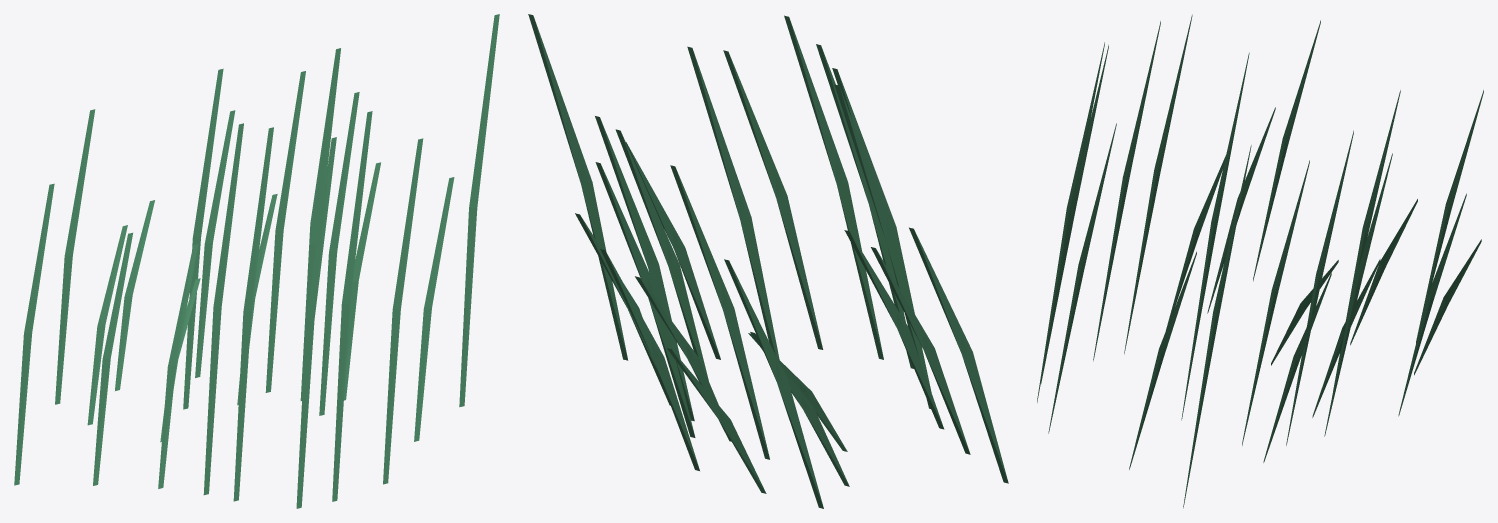
File: seagrass.glb
3 renders of one model, left to right at view 1: azimuth 30°, elevation 25°; view 2: azimuth 150°, elevation 25°; view 3: azimuth 270°, elevation 25°, orthographic. The views are drawn at different scales.
Visible parts, largest first — view 1: seagrass; view 2: seagrass; view 3: seagrass.
Boxes of the visible parts, x1,y1,x2,y2 form: seagrass: (14, 14, 499, 508); seagrass: (528, 14, 1008, 508); seagrass: (1037, 14, 1483, 508).
Bounding box in the file's own units: 0.7414 × 0.5255 × 0.5273.
